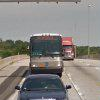Bus: (25, 27, 69, 77)
